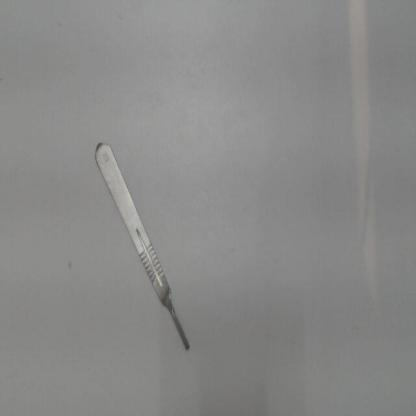No.4 BP Handle: (81, 123, 203, 367)
